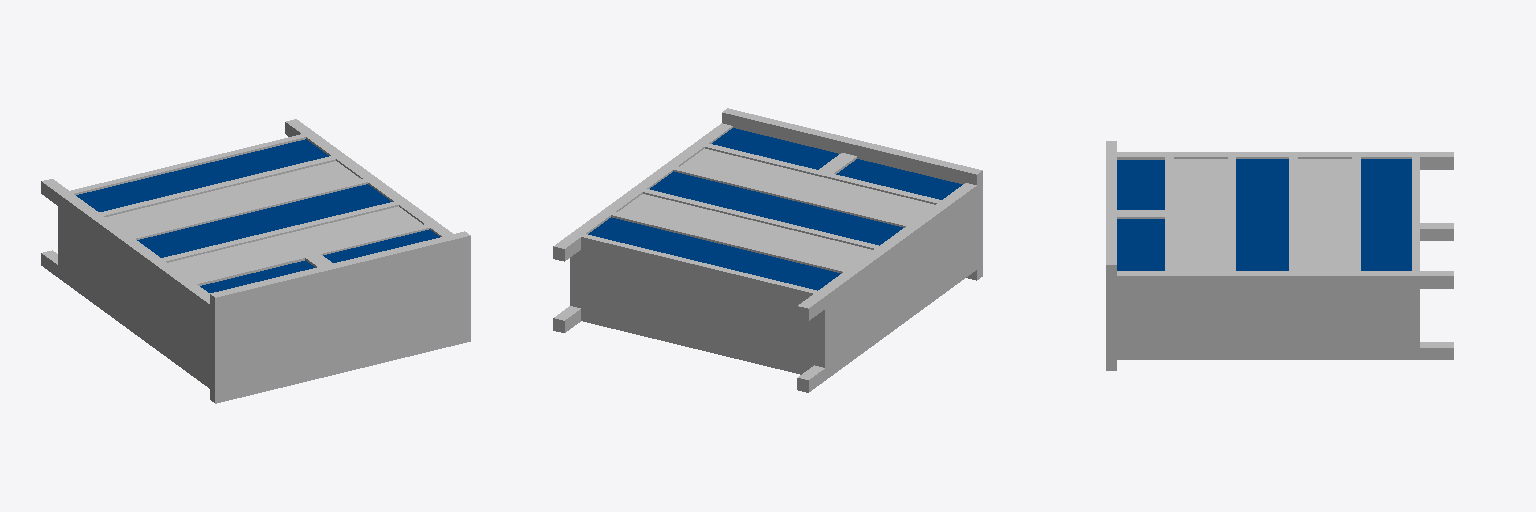
File: color.obj
3 renders of one model, left to right at view 1: azimuth 30°, elevation 25°; view 2: azimuth 150°, elevation 25°; view 3: azimuth 270°, elevation 25°, orthographic.
Parts seen in each view (by area): view 1: Cube, Cube.005, Cube.003, Cube.004, Cube.006, Cube.002, Cube.001; view 2: Cube, Cube.005, Cube.003, Cube.004, Cube.006, Cube.002, Cube.001; view 3: Cube, Cube.005, Cube.003, Cube.004, Cube.006, Cube.002, Cube.001.
Part boxes in pixels (x1,y1,x2,y2): Cube: (41,119,470,403); Cube.005: (106,161,360,235); Cube.003: (169,206,422,280); Cube.004: (137,184,391,257); Cube.006: (76,139,328,211); Cube.002: (323,229,439,262); Cube.001: (200,260,314,292); Cube: (553,108,982,392); Cube.005: (618,194,872,268); Cube.003: (680,148,934,222); Cube.004: (650,171,902,245); Cube.006: (588,217,840,290); Cube.002: (712,128,838,169); Cube.001: (836,159,962,199); Cube: (1106,141,1453,370); Cube.005: (1298,159,1351,270); Cube.003: (1174,159,1227,270); Cube.004: (1236,159,1288,270); Cube.006: (1361,159,1411,270); Cube.002: (1117,219,1164,270); Cube.001: (1117,160,1164,209).
Bounding box in the file's own units: 6.11 × 2.42 × 7.21.